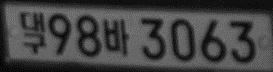0: (169, 18, 196, 61)
3: (229, 20, 257, 63), (139, 17, 166, 60)
6: (200, 19, 227, 63)
8: (76, 14, 101, 57)
9: (47, 12, 71, 55)
대구_V: (19, 11, 46, 54)
바: (103, 18, 129, 55)
